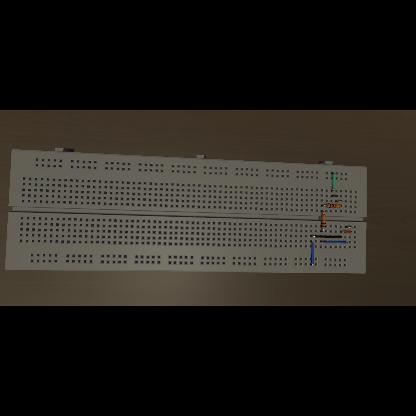breadboard: (5, 148, 367, 274)
resistor: (326, 204, 342, 208), (322, 215, 326, 229)
wire: (320, 240, 348, 244), (310, 242, 314, 266), (331, 173, 335, 191), (311, 236, 343, 238), (340, 231, 352, 233), (345, 226, 353, 228), (320, 228, 324, 232), (320, 211, 324, 214), (331, 196, 339, 196), (335, 202, 343, 202)
